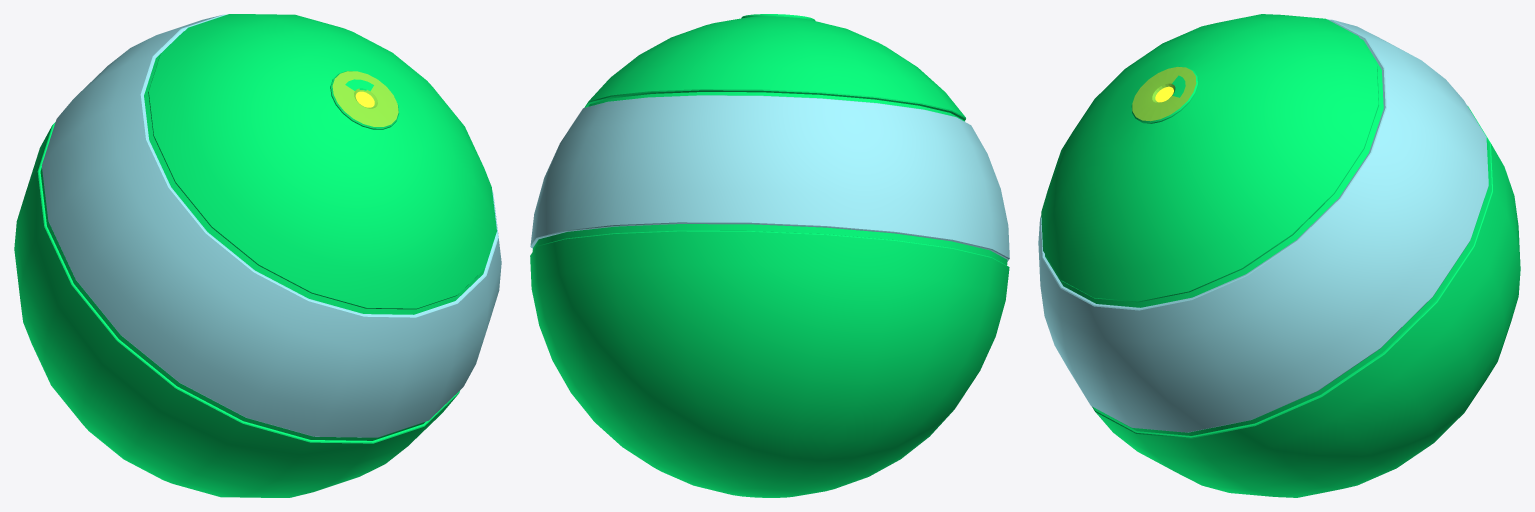
The model's file is incubator_green.fbx.
3 renders of one model, left to right at view 1: azimuth 30°, elevation 25°; view 2: azimuth 150°, elevation 25°; view 3: azimuth 270°, elevation 25°, orthographic.
Visible parts, largest first — view 1: pSphere3.005; view 2: pSphere3.005; view 3: pSphere3.005.
Boxes of the visible parts, x1,y1,x2,y2 form: pSphere3.005: [14, 14, 501, 497]; pSphere3.005: [530, 14, 1009, 497]; pSphere3.005: [1038, 14, 1520, 497].
Bounding box in the file's own units: 415 × 416 × 414.
